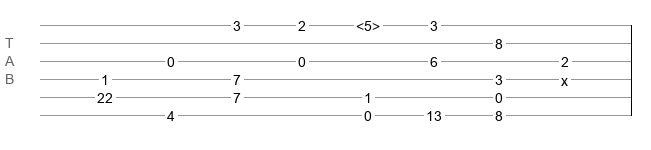0: (167, 54, 175, 64), (298, 54, 306, 64), (364, 108, 372, 118), (495, 90, 503, 100)
1: (101, 72, 109, 82), (364, 90, 372, 100)
13: (426, 108, 442, 118)
2: (298, 18, 306, 28), (561, 54, 569, 64)
22: (97, 90, 113, 100)
3: (233, 18, 241, 28), (430, 18, 438, 28), (495, 72, 503, 82)
4: (167, 108, 175, 118)
6: (430, 54, 438, 64)
7: (233, 72, 241, 82), (233, 90, 241, 100)
8: (495, 36, 503, 46), (495, 108, 503, 118)
harmonic: (356, 18, 380, 28)
x: (561, 73, 568, 81)
